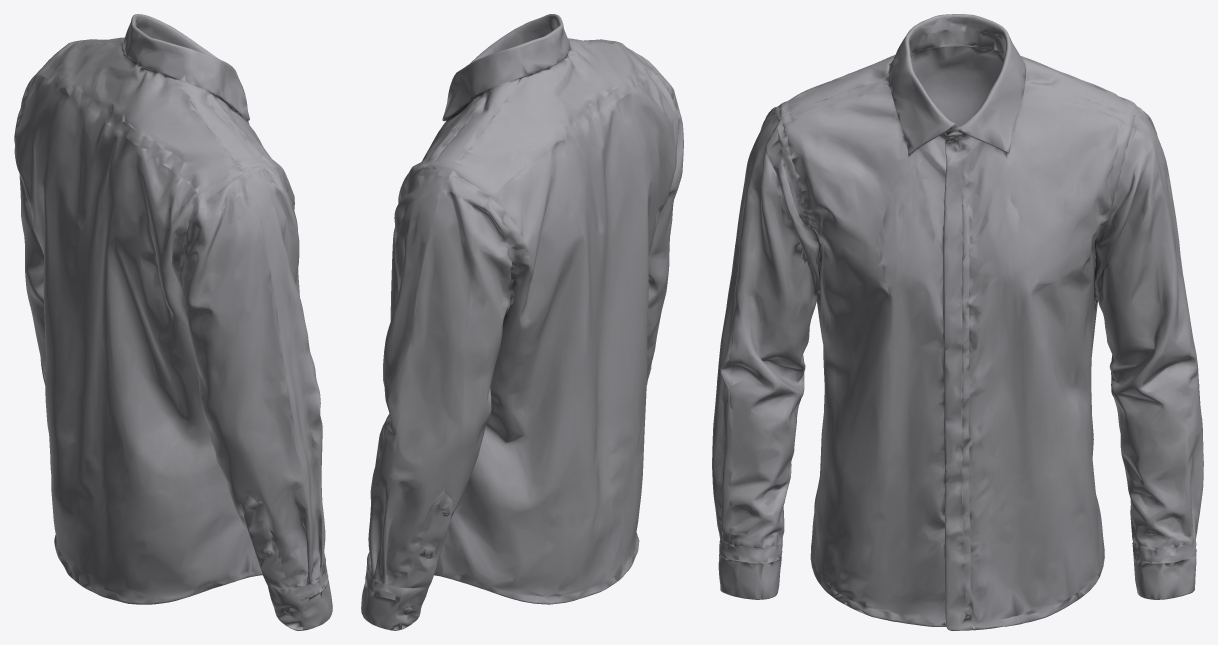
The model's file is CAMISA.glb.
3 renders of one model, left to right at view 1: azimuth 30°, elevation 25°; view 2: azimuth 150°, elevation 25°; view 3: azimuth 270°, elevation 25°, orthographic. The views are drawn at different scales.
Parts seen in each view (by area): view 1: tripo_node_0dd746b1-d29f-49a6-abbc-054c07e46ea6; view 2: tripo_node_0dd746b1-d29f-49a6-abbc-054c07e46ea6; view 3: tripo_node_0dd746b1-d29f-49a6-abbc-054c07e46ea6.
Part boxes in pixels (left/top/right/bottom): tripo_node_0dd746b1-d29f-49a6-abbc-054c07e46ea6: left=14, top=14, right=332, bottom=630; tripo_node_0dd746b1-d29f-49a6-abbc-054c07e46ea6: left=361, top=14, right=683, bottom=630; tripo_node_0dd746b1-d29f-49a6-abbc-054c07e46ea6: left=712, top=14, right=1203, bottom=630.
Bounding box in the file's own units: 0.3948 × 0.9793 × 0.7862.
Materials: 1 (1 with a texture image).
